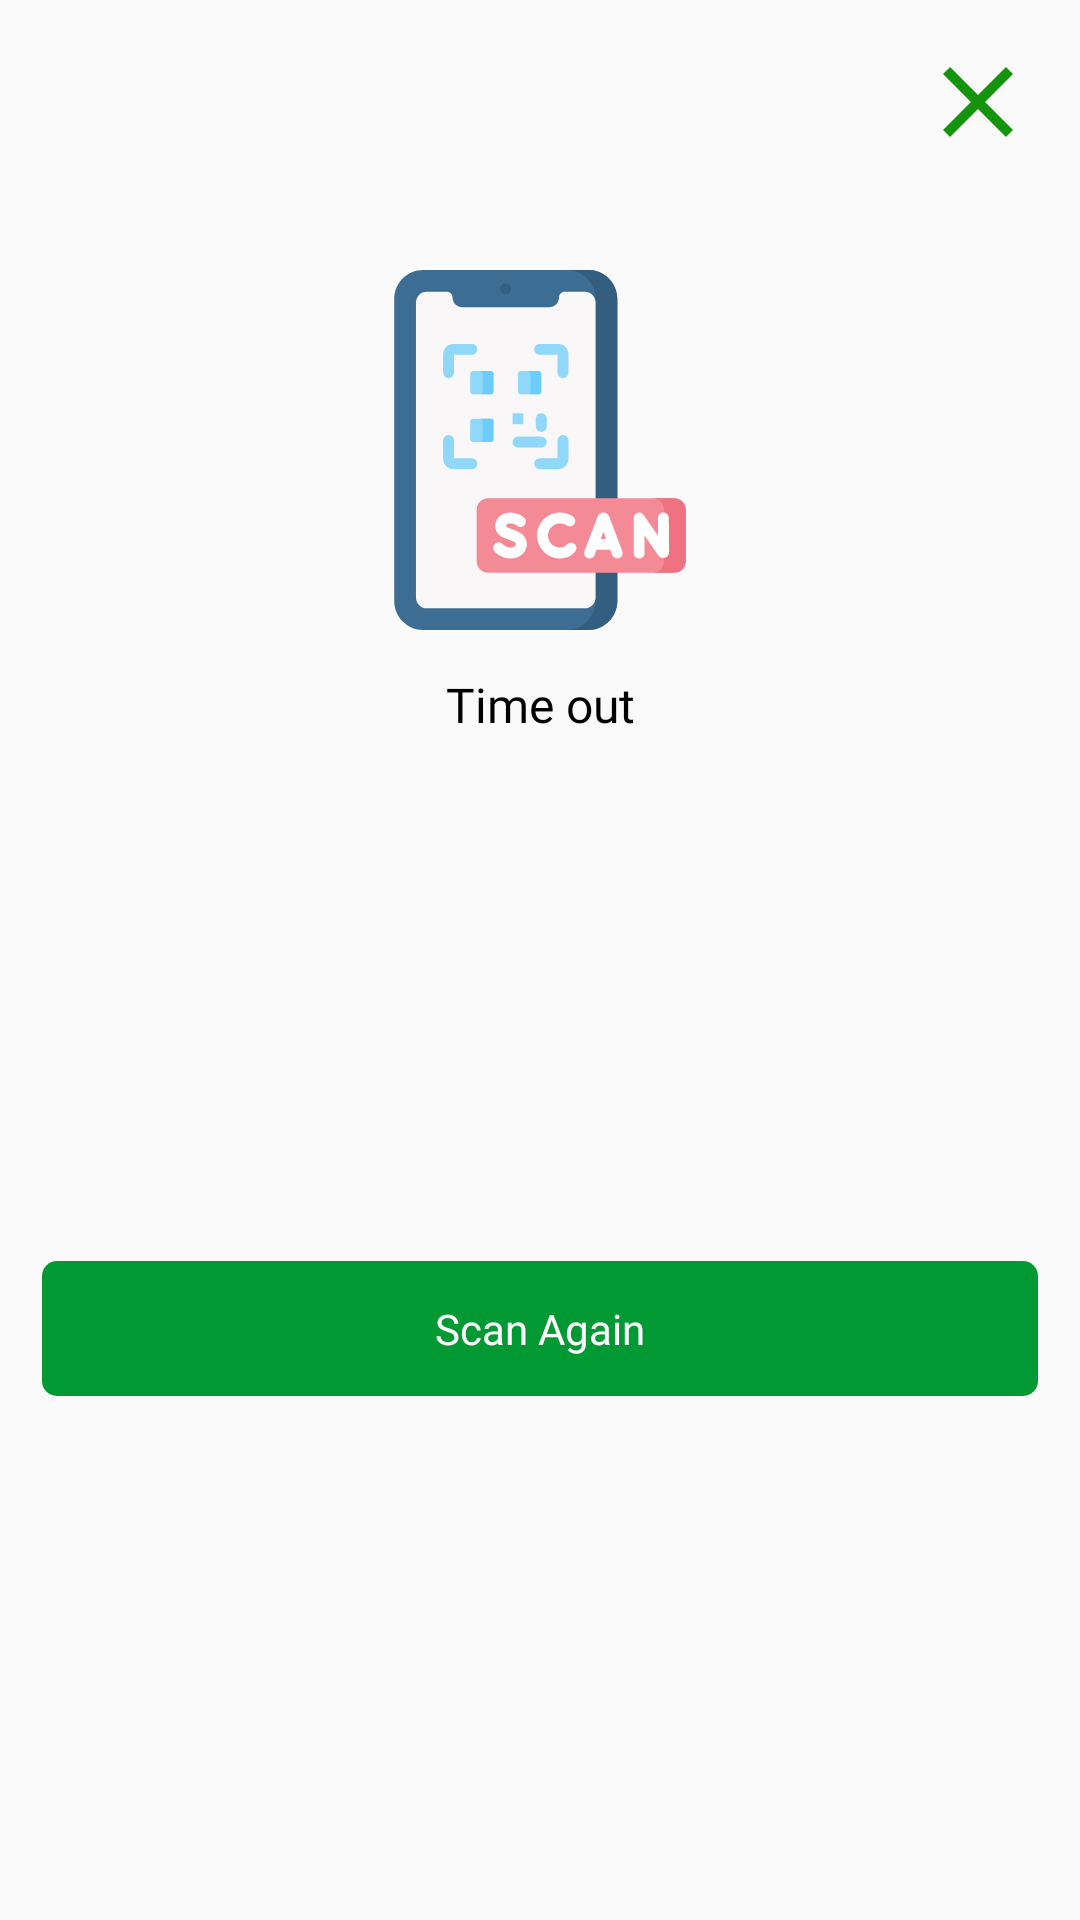

Named icons in this screenshot (1080*1920) and their bounding boxes, (x1, y1, x2, y2):
close: (943, 67, 1013, 137)
qr scan: (394, 270, 686, 630)
